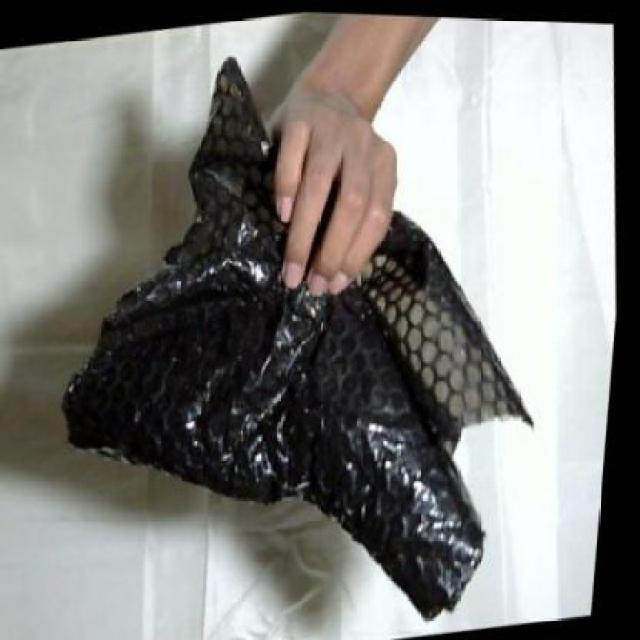Plastic: (57, 47, 537, 618)
